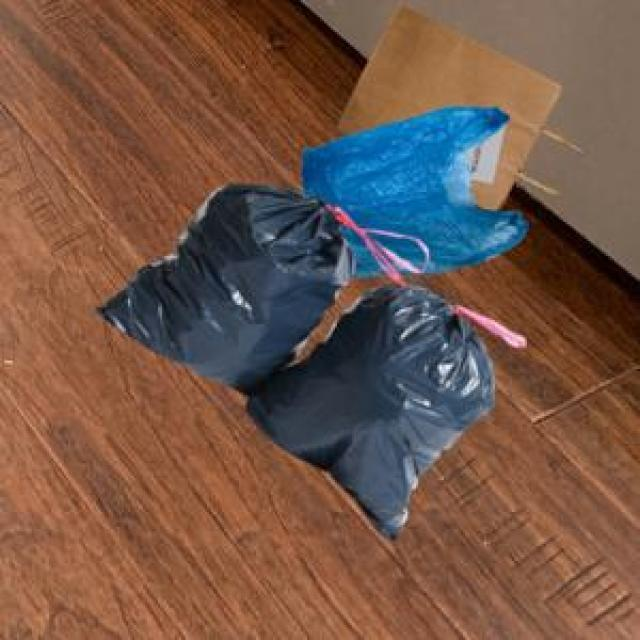miscellaneous trash: (92, 179, 521, 538)
paper: (333, 0, 570, 207)
